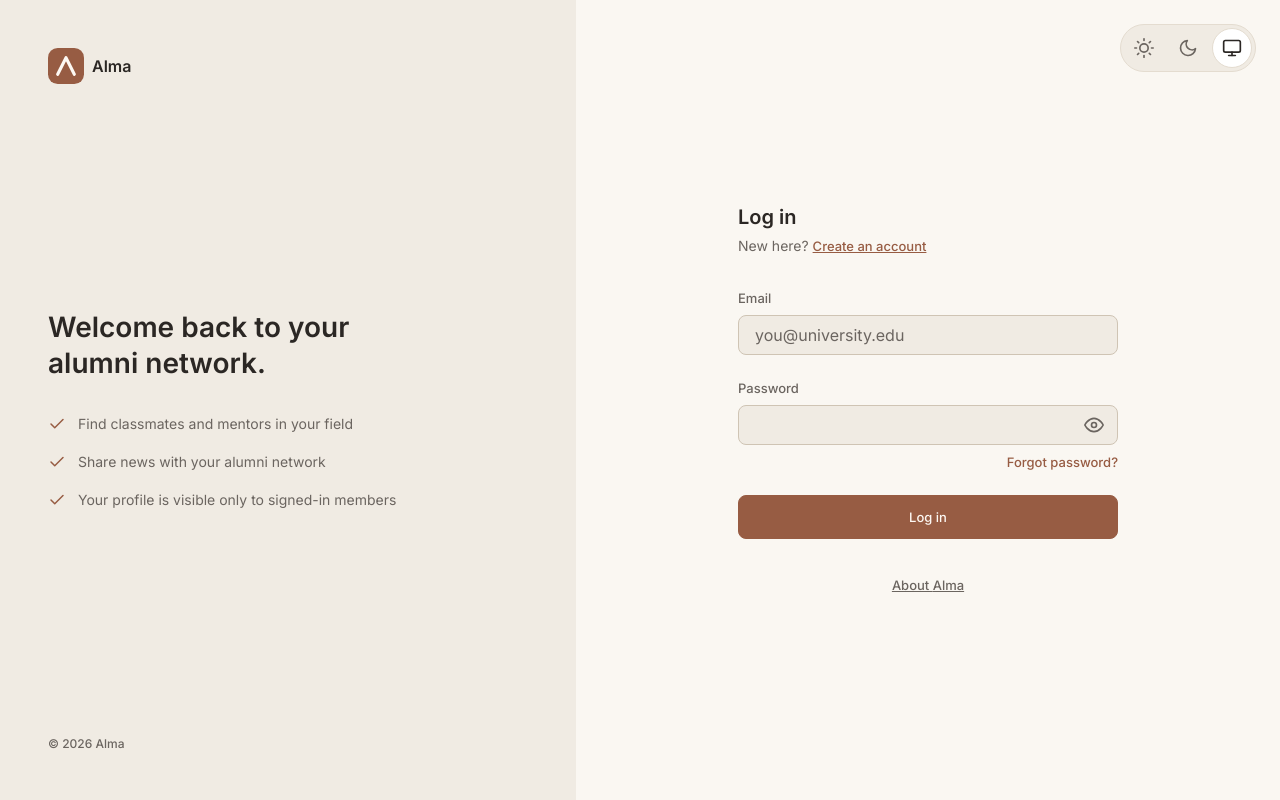
Test case: /about (public, REQ-014) › is reached from the "About Alma" link on /login
The width and height of the screenshot is (1280, 800).
Expected: the heading "Log in" is shown, left=738, top=205, right=796, bottom=229
Click the link "About Alma" at x=912, y=585, box left=892, top=577, right=964, bottom=593
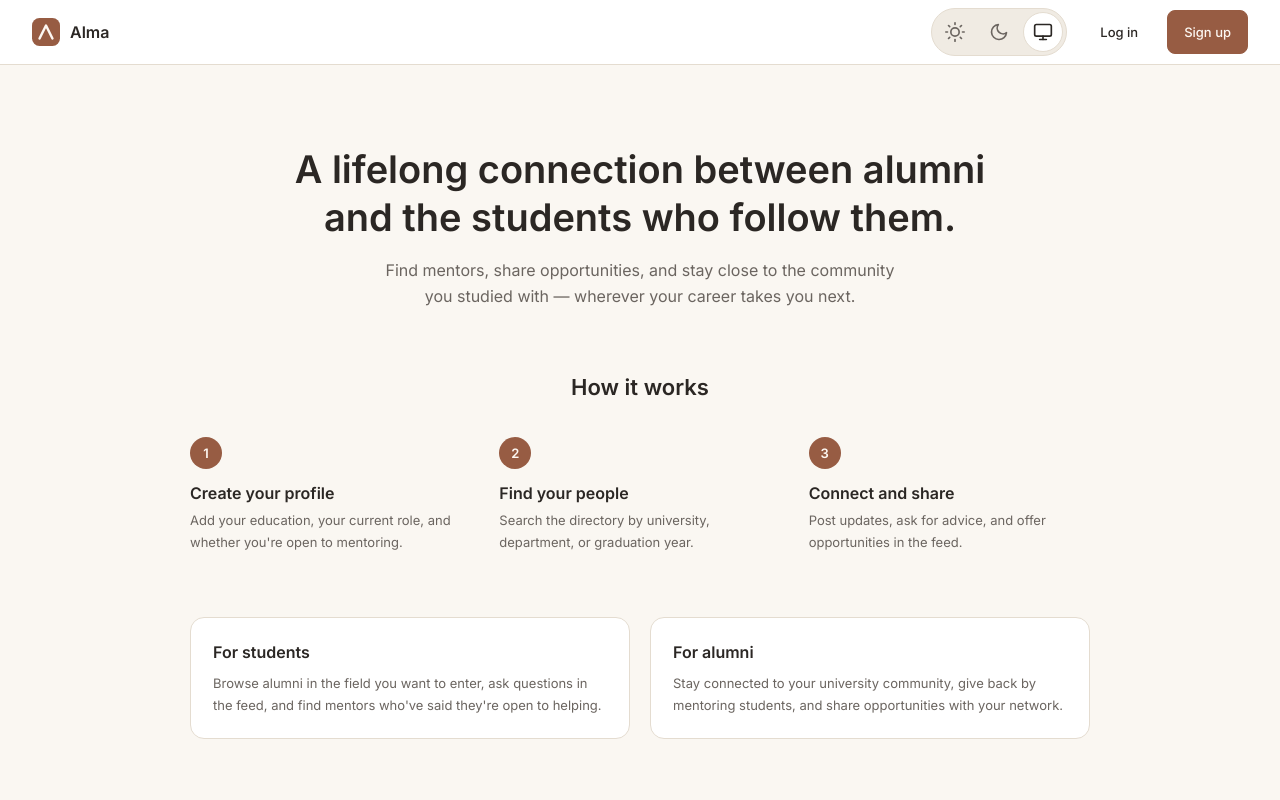
Expected: the heading "A lifelong connection between alumni and the students who follow them." is shown, left=260, top=145, right=1020, bottom=241
